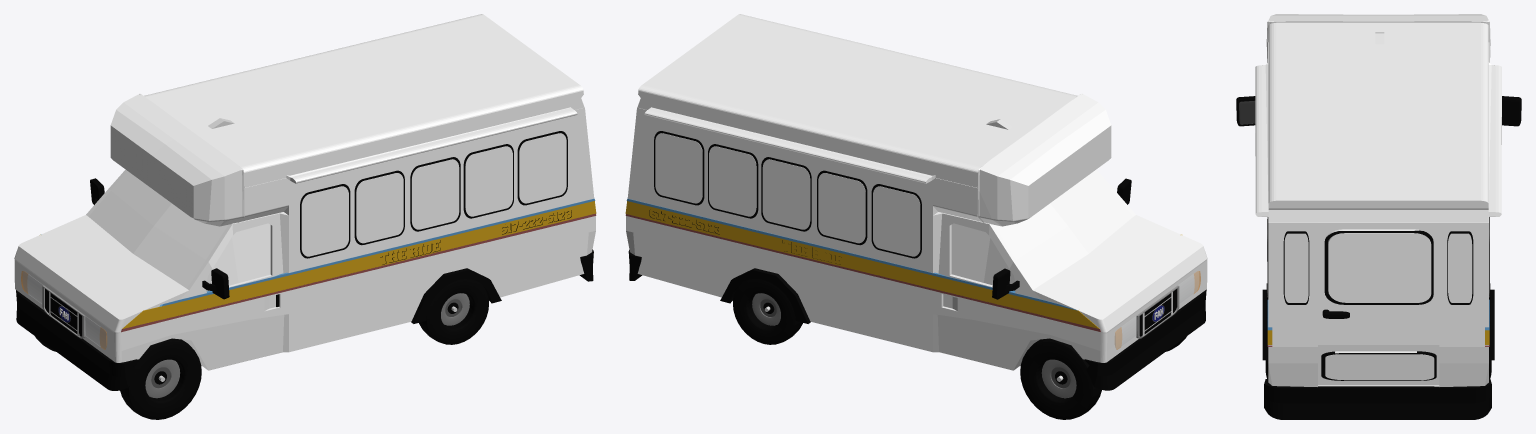
Rendered from SparrowBus.glb.
3 renders of one model, left to right at view 1: azimuth 30°, elevation 25°; view 2: azimuth 150°, elevation 25°; view 3: azimuth 270°, elevation 25°, orthographic. The views are drawn at different scales.
Visible parts, largest first — view 1: Cube.157, Cube.065, Cube.167, Cube.163, Cube.174, Circle, Cube.170, Circle.005, Cube.165, Cube.162, Cube.169, Circle.001 (+3 smaller); view 2: Cube.157, Cube.065, Cube.167, Cube.163, Cube.174, Circle, Cube.170, Circle.005, Cube.162, Cube.001, Cube.169, Circle.001 (+3 smaller); view 3: Cube.157, Cube.065, Cube.185, Cube.181, Cube.171, Cube.183, Cube.176, Cube.182, Cube.169, Cube.179, Cube.010, Cube.164 (+4 smaller).
Part boxes in pixels (x1,y1,x2,y2): Cube.157: (110, 14, 584, 226); Cube.065: (14, 107, 595, 370); Cube.167: (301, 133, 566, 256); Cube.163: (88, 171, 227, 288); Cube.174: (178, 198, 596, 317); Circle: (35, 336, 201, 419); Cube.170: (16, 290, 137, 390); Circle.005: (419, 279, 488, 344); Cube.165: (206, 223, 270, 291); Cube.162: (300, 131, 567, 258); Cube.169: (411, 268, 501, 323); Circle.001: (145, 359, 180, 398); Cube.157: (637, 14, 1111, 226); Cube.065: (626, 107, 1207, 370); Cube.167: (655, 133, 920, 256); Cube.163: (994, 171, 1133, 288); Cube.174: (625, 198, 1043, 317); Circle: (1020, 336, 1186, 419); Cube.170: (1084, 289, 1206, 390); Circle.005: (733, 279, 802, 344); Cube.162: (654, 131, 921, 258); Cube.001: (951, 223, 1015, 291); Cube.169: (720, 268, 810, 323); Circle.001: (1041, 359, 1076, 398); Cube.157: (1255, 14, 1501, 222); Cube.065: (1268, 216, 1488, 386); Cube.185: (1264, 379, 1491, 419); Cube.181: (1328, 233, 1431, 302); Cube.171: (1325, 354, 1434, 380); Cube.183: (1284, 233, 1308, 302); Cube.176: (1448, 233, 1472, 302); Cube.182: (1324, 230, 1433, 304); Cube.169: (1262, 289, 1494, 360); Cube.179: (1321, 351, 1436, 380); Cube.010: (1502, 96, 1521, 126); Cube.164: (1236, 96, 1255, 126).
Size of the model in its own units: 53.51 by 25.09 by 25.61.
